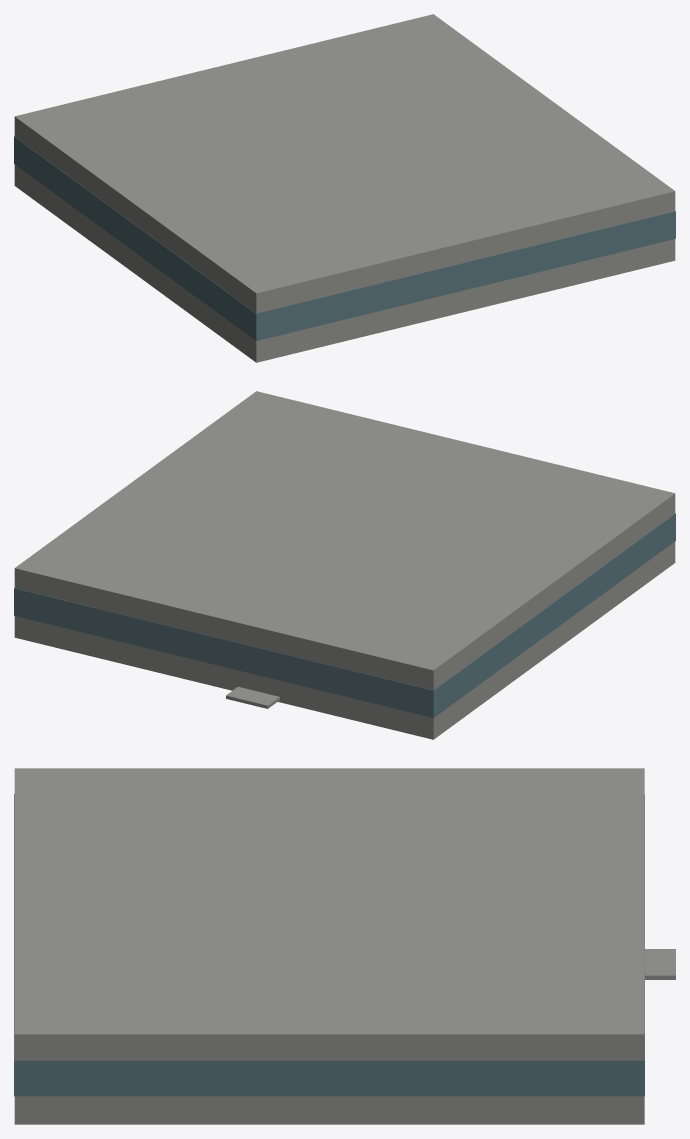
The model's file is tw_slab_24_floor_b_lod1.glb.
3 renders of one model, top to bottom at view 1: azimuth 30°, elevation 25°; view 2: azimuth 150°, elevation 25°; view 3: azimuth 270°, elevation 25°, orthographic. The views are drawn at different scales.
Parts seen in each view (by area): view 1: tw_slab_24_floor_b_lod1; view 2: tw_slab_24_floor_b_lod1; view 3: tw_slab_24_floor_b_lod1.
Boxes of the visible parts, x1=… form: tw_slab_24_floor_b_lod1: x1=14, y1=14, x2=675, y2=362; tw_slab_24_floor_b_lod1: x1=14, y1=391, x2=675, y2=739; tw_slab_24_floor_b_lod1: x1=14, y1=768, x2=675, y2=1124.
Bounding box in the file's own units: 24.04 × 3.8 × 25.22.
2 materials, 2 textured.
